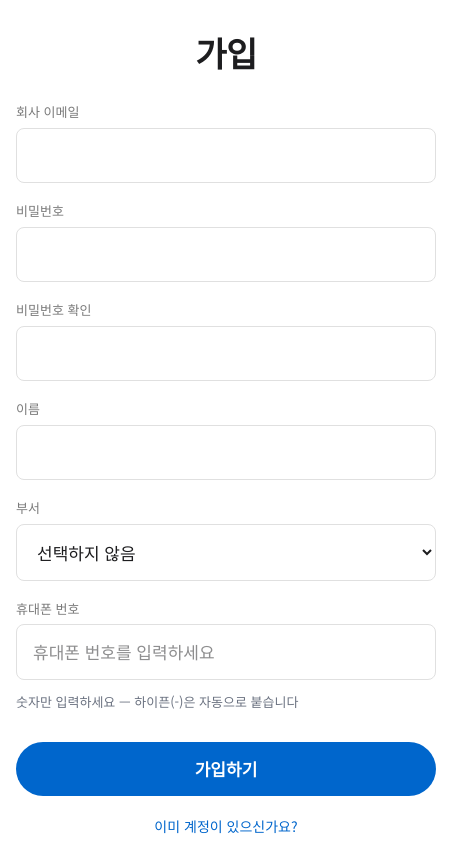
회원가입 › 서버가 거부하면 실패 사유를 보여주고 성공 화면으로 넘어가지 않는다
This screenshot has width=453, height=850.
In the field labelled "회사 이메일": (226, 155) [16,128,436,183], type "a@gmail.com"
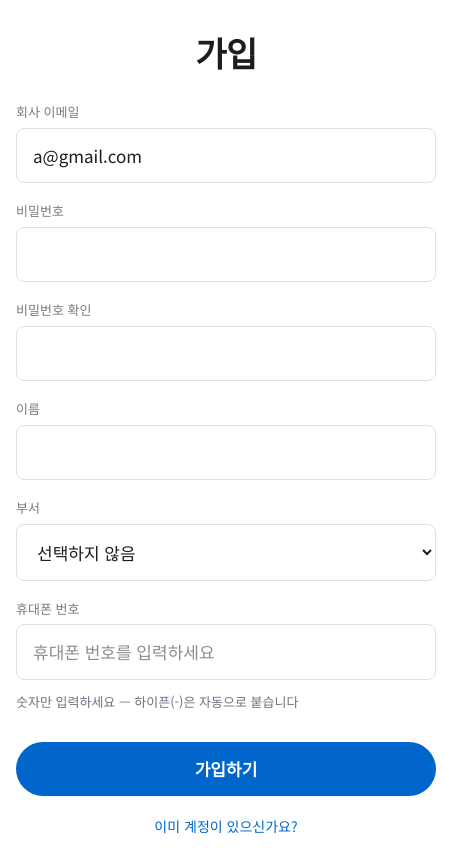
In the password field labelled "비밀번호": (226, 254) [16,227,436,282], type "password12345"
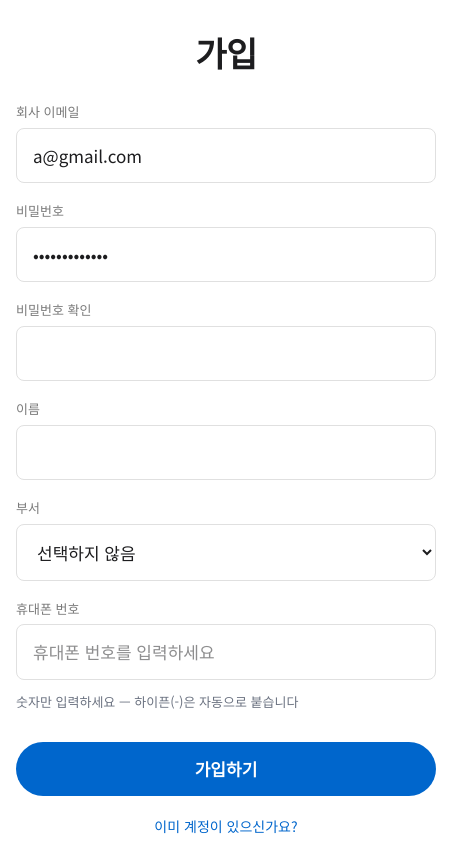
In the password field labelled "비밀번호 확인": (226, 353) [16,326,436,381], type "password12345"
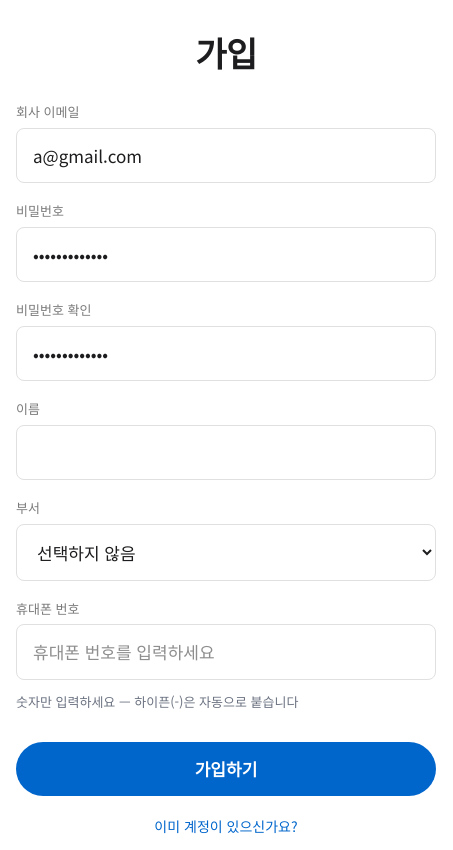
In the field labelled "이름": (226, 452) [16,425,436,480], type "홍길동"
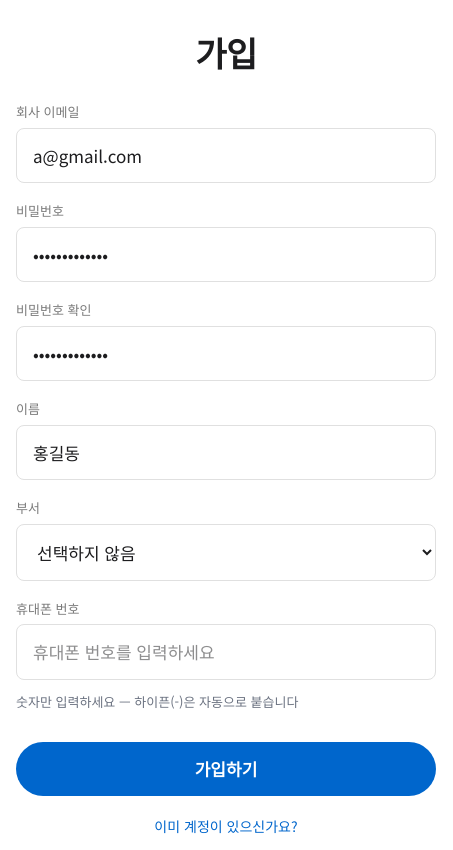
Click the button "가입하기": (226, 769) [16,742,436,796]
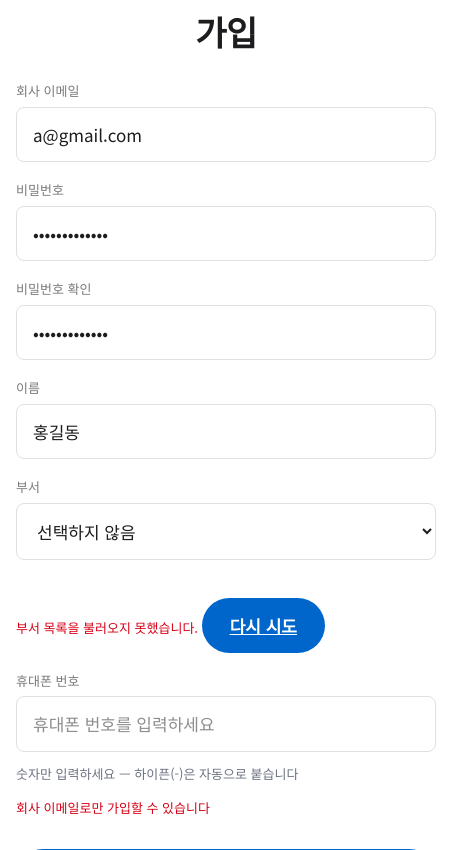
Expected: the text "회사 이메일로만 가입할 수 있습니다" is shown, [16,798,210,818]
